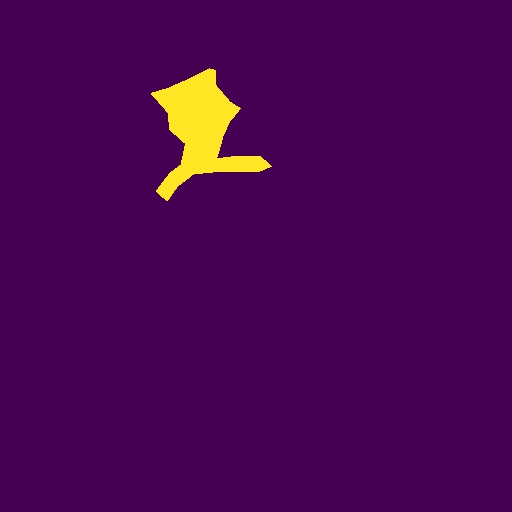Gliomia_tumour: (151, 68, 272, 201)
